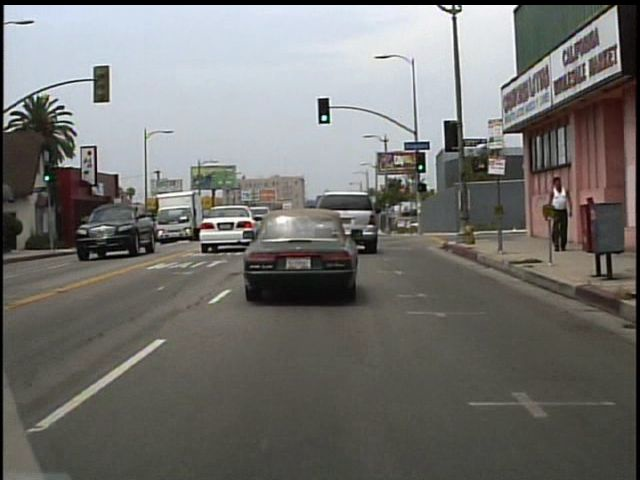person: (546, 173, 577, 254)
